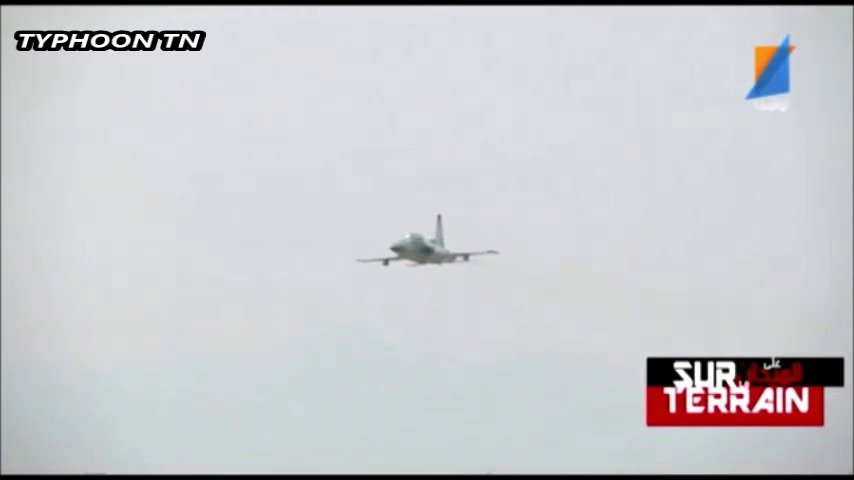Airplane: (357, 215, 499, 270)
